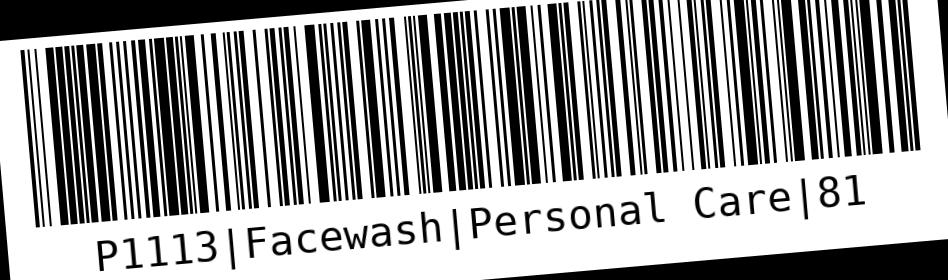milk: (12, 1, 946, 278)
